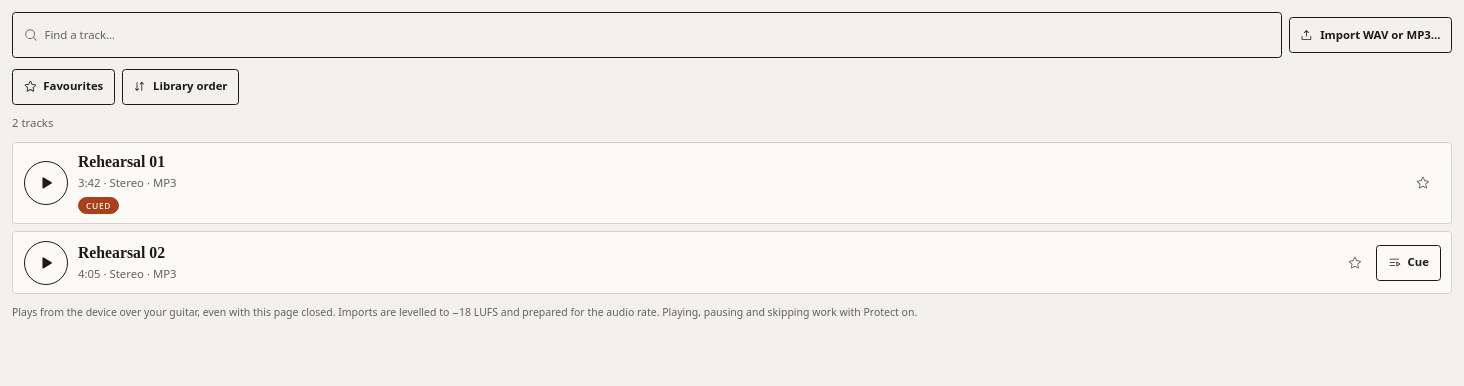
Test: does not play the track a second viewer cued while a library row was opening
This screenshot has width=1464, height=386.
What coordinates should you click on to do the following:
click the button named "Play Rehearsal 02"
I would click on:
 (46, 263)
Its box is [24, 241, 68, 285].
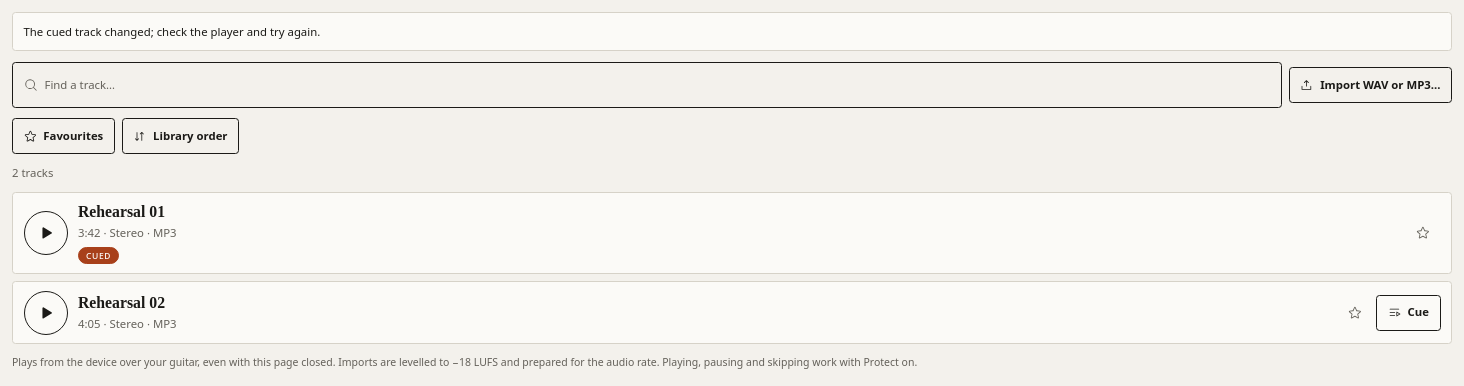
Check: the text "The cued track changed; check the player and try again." is shown, box [12, 12, 1452, 52]
